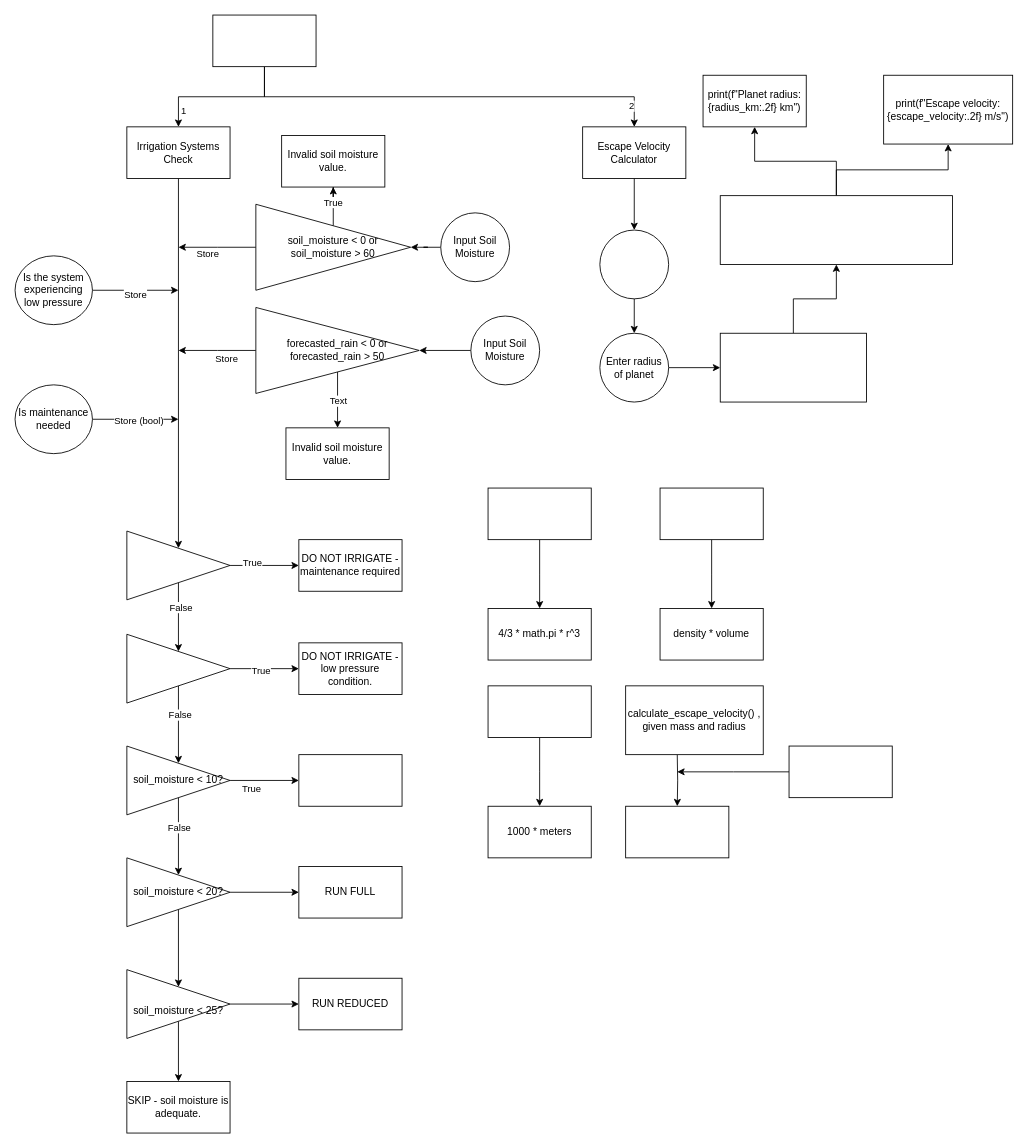
The diagram is 1028 pixels wide and 1148 high, and some of its shapes have lost their labels. Here are the shapes that lost their labels. From the top down, the centre of each, then its label:
At pixel 264 40: "Select a Tool".
At pixel 835 229: "calculate_escape_velocity(mass, radius) calculate meters_to_kilometers(radius)".
At pixel 634 264: "Enter density of planet".
At pixel 792 367: "calcuate volume(radius), calculate mass(volume, density)".
At pixel 539 513: "volume() , given radius".
At pixel 711 513: "mass(), given density and volume".
At pixel 178 565: "Maintinence Neeed?".
At pixel 178 668: "Low pressure?".
At pixel 539 711: "Meters to kilometers".
At pixel 350 780: "DELAY - significant rainfall expected.".
At pixel 840 771: "G = 6.6743e-11".
At pixel 677 831: "sqrt(2 * G * mass / radius".
